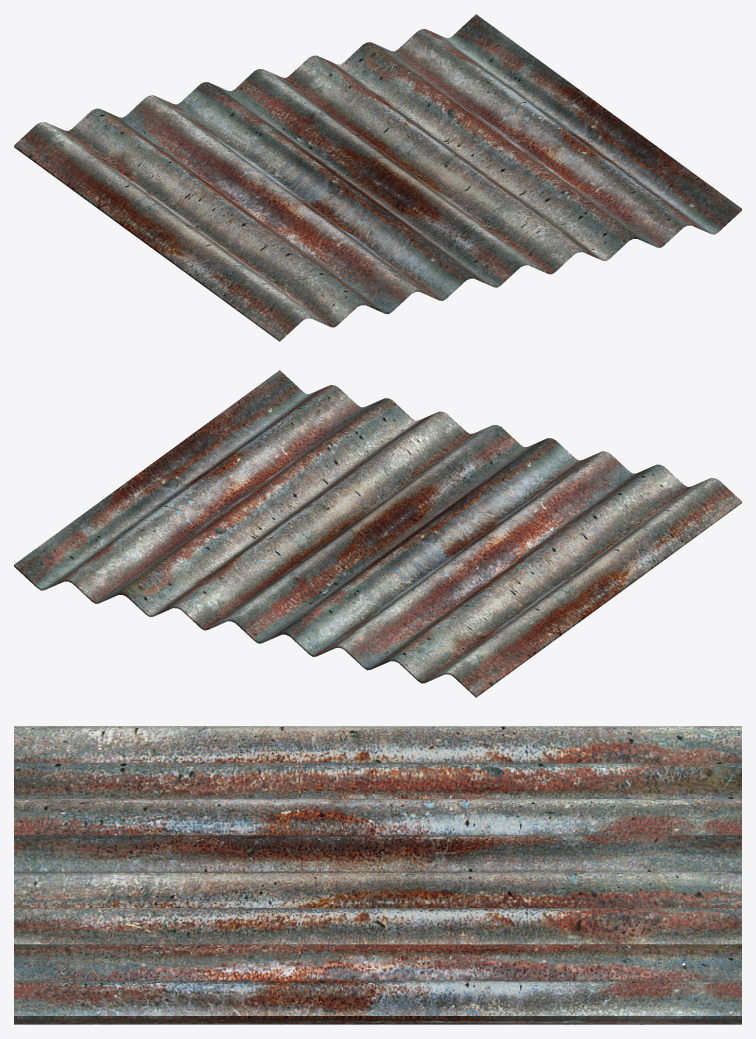
Rendered from metalSheet.fbx.
The picture shows the model from 3 angles, top to bottom: view 1: azimuth 30°, elevation 25°; view 2: azimuth 150°, elevation 25°; view 3: azimuth 270°, elevation 25°; orthographic projection. The views are drawn at different scales.
Visible parts, largest first — view 1: Metal_Sheet; view 2: Metal_Sheet; view 3: Metal_Sheet.
Part boxes in pixels (<box>): Metal_Sheet: <box>14,14,741,341</box>; Metal_Sheet: <box>14,370,741,697</box>; Metal_Sheet: <box>14,726,741,1024</box>.
Size of the model in its own units: 3.23 by 0.1369 by 3.22.
1 material, 1 textured.
